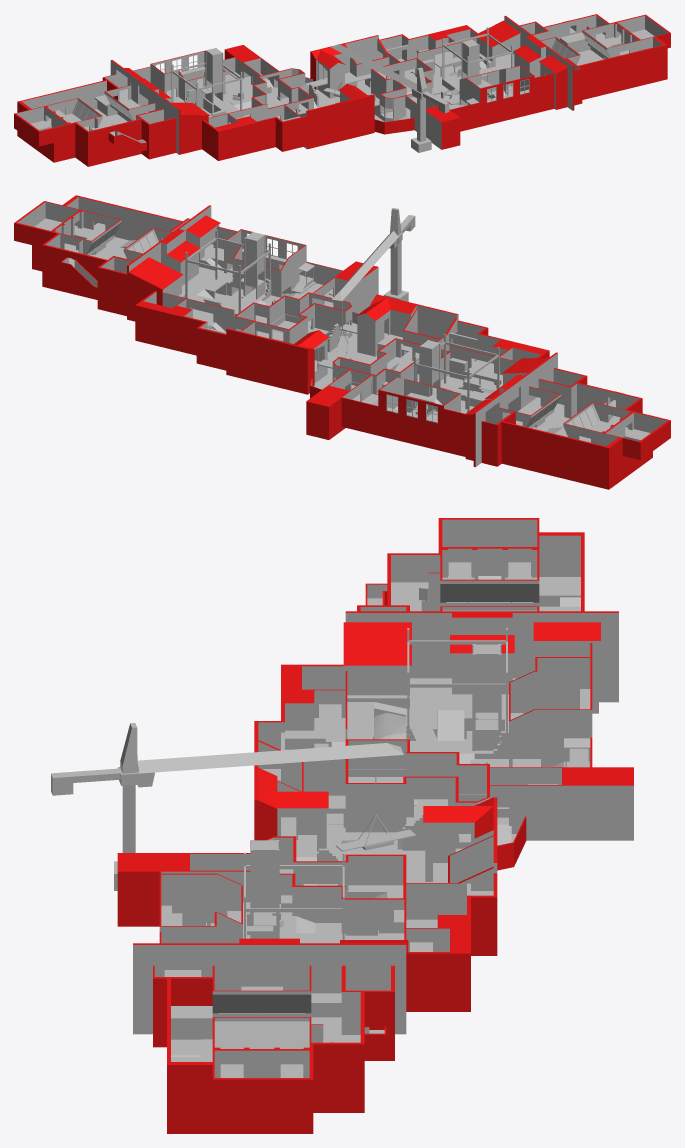
The model's file is vanguard.obj.
3 renders of one model, top to bottom at view 1: azimuth 30°, elevation 25°; view 2: azimuth 150°, elevation 25°; view 3: azimuth 270°, elevation 25°, orthographic. The views are drawn at different scales.
Visible parts, largest first — view 1: Brush1346, Brush044, Brush768, Brush1342, Brush231, Brush1343, Brush1345, Brush010, func_detail102; view 2: Brush1346, Brush768, Brush1342, Brush1345, Brush231, Brush044, Brush010, Brush1343, func_detail102; view 3: Brush1342, Brush1345, Brush044, Brush231, Brush768, Brush1346, Brush1343, Brush010, func_detail102, Brush1344.
Part boxes in pixels (box(x1,y1,x2,y2)): Brush1346: box(14, 80, 176, 166); Brush044: box(459, 15, 582, 126); Brush768: box(310, 35, 480, 149); Brush1342: box(223, 45, 374, 149); Brush231: box(519, 14, 670, 99); Brush1343: box(171, 47, 306, 160); Brush1345: box(94, 50, 225, 154); Brush010: box(379, 25, 513, 98); func_detail102: box(323, 44, 449, 152); Brush1346: box(501, 368, 670, 489); Brush768: box(226, 261, 378, 394); Brush1342: box(306, 294, 458, 439); Brush1345: box(372, 352, 561, 467); Brush231: box(14, 195, 182, 315); Brush044: box(123, 205, 314, 321); Brush010: box(135, 230, 271, 370); Brush1343: box(414, 320, 549, 413); func_detail102: box(331, 208, 415, 357); Brush1342: box(254, 734, 633, 870); Brush1345: box(343, 606, 618, 767); Brush044: box(133, 873, 408, 1047); Brush231: box(167, 965, 394, 1133); Brush768: box(117, 797, 497, 935); Brush1346: box(357, 518, 584, 611); Brush1343: box(254, 628, 508, 781); Brush010: box(243, 840, 497, 1011); func_detail102: box(51, 723, 416, 890); Brush1344: box(341, 712, 487, 843).
Size of the model in its own units: 11200 by 1540 by 4916.
